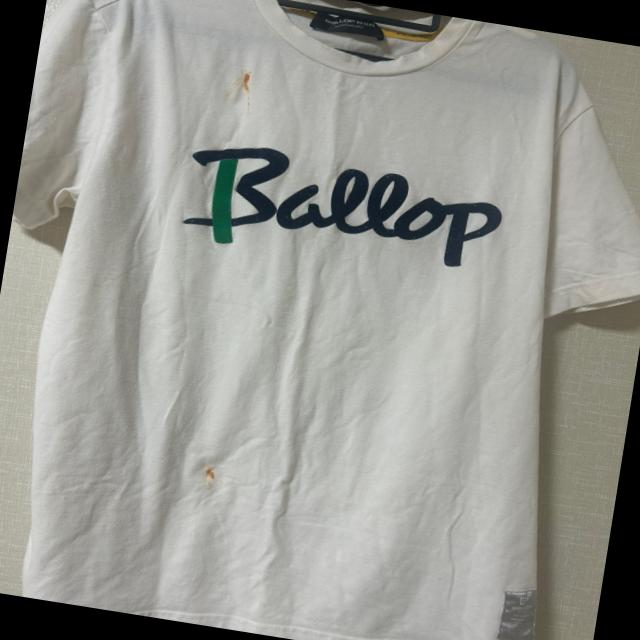stain: (230, 66, 266, 108), (196, 458, 226, 489)
